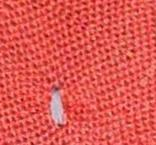hole: (42, 84, 71, 130)
